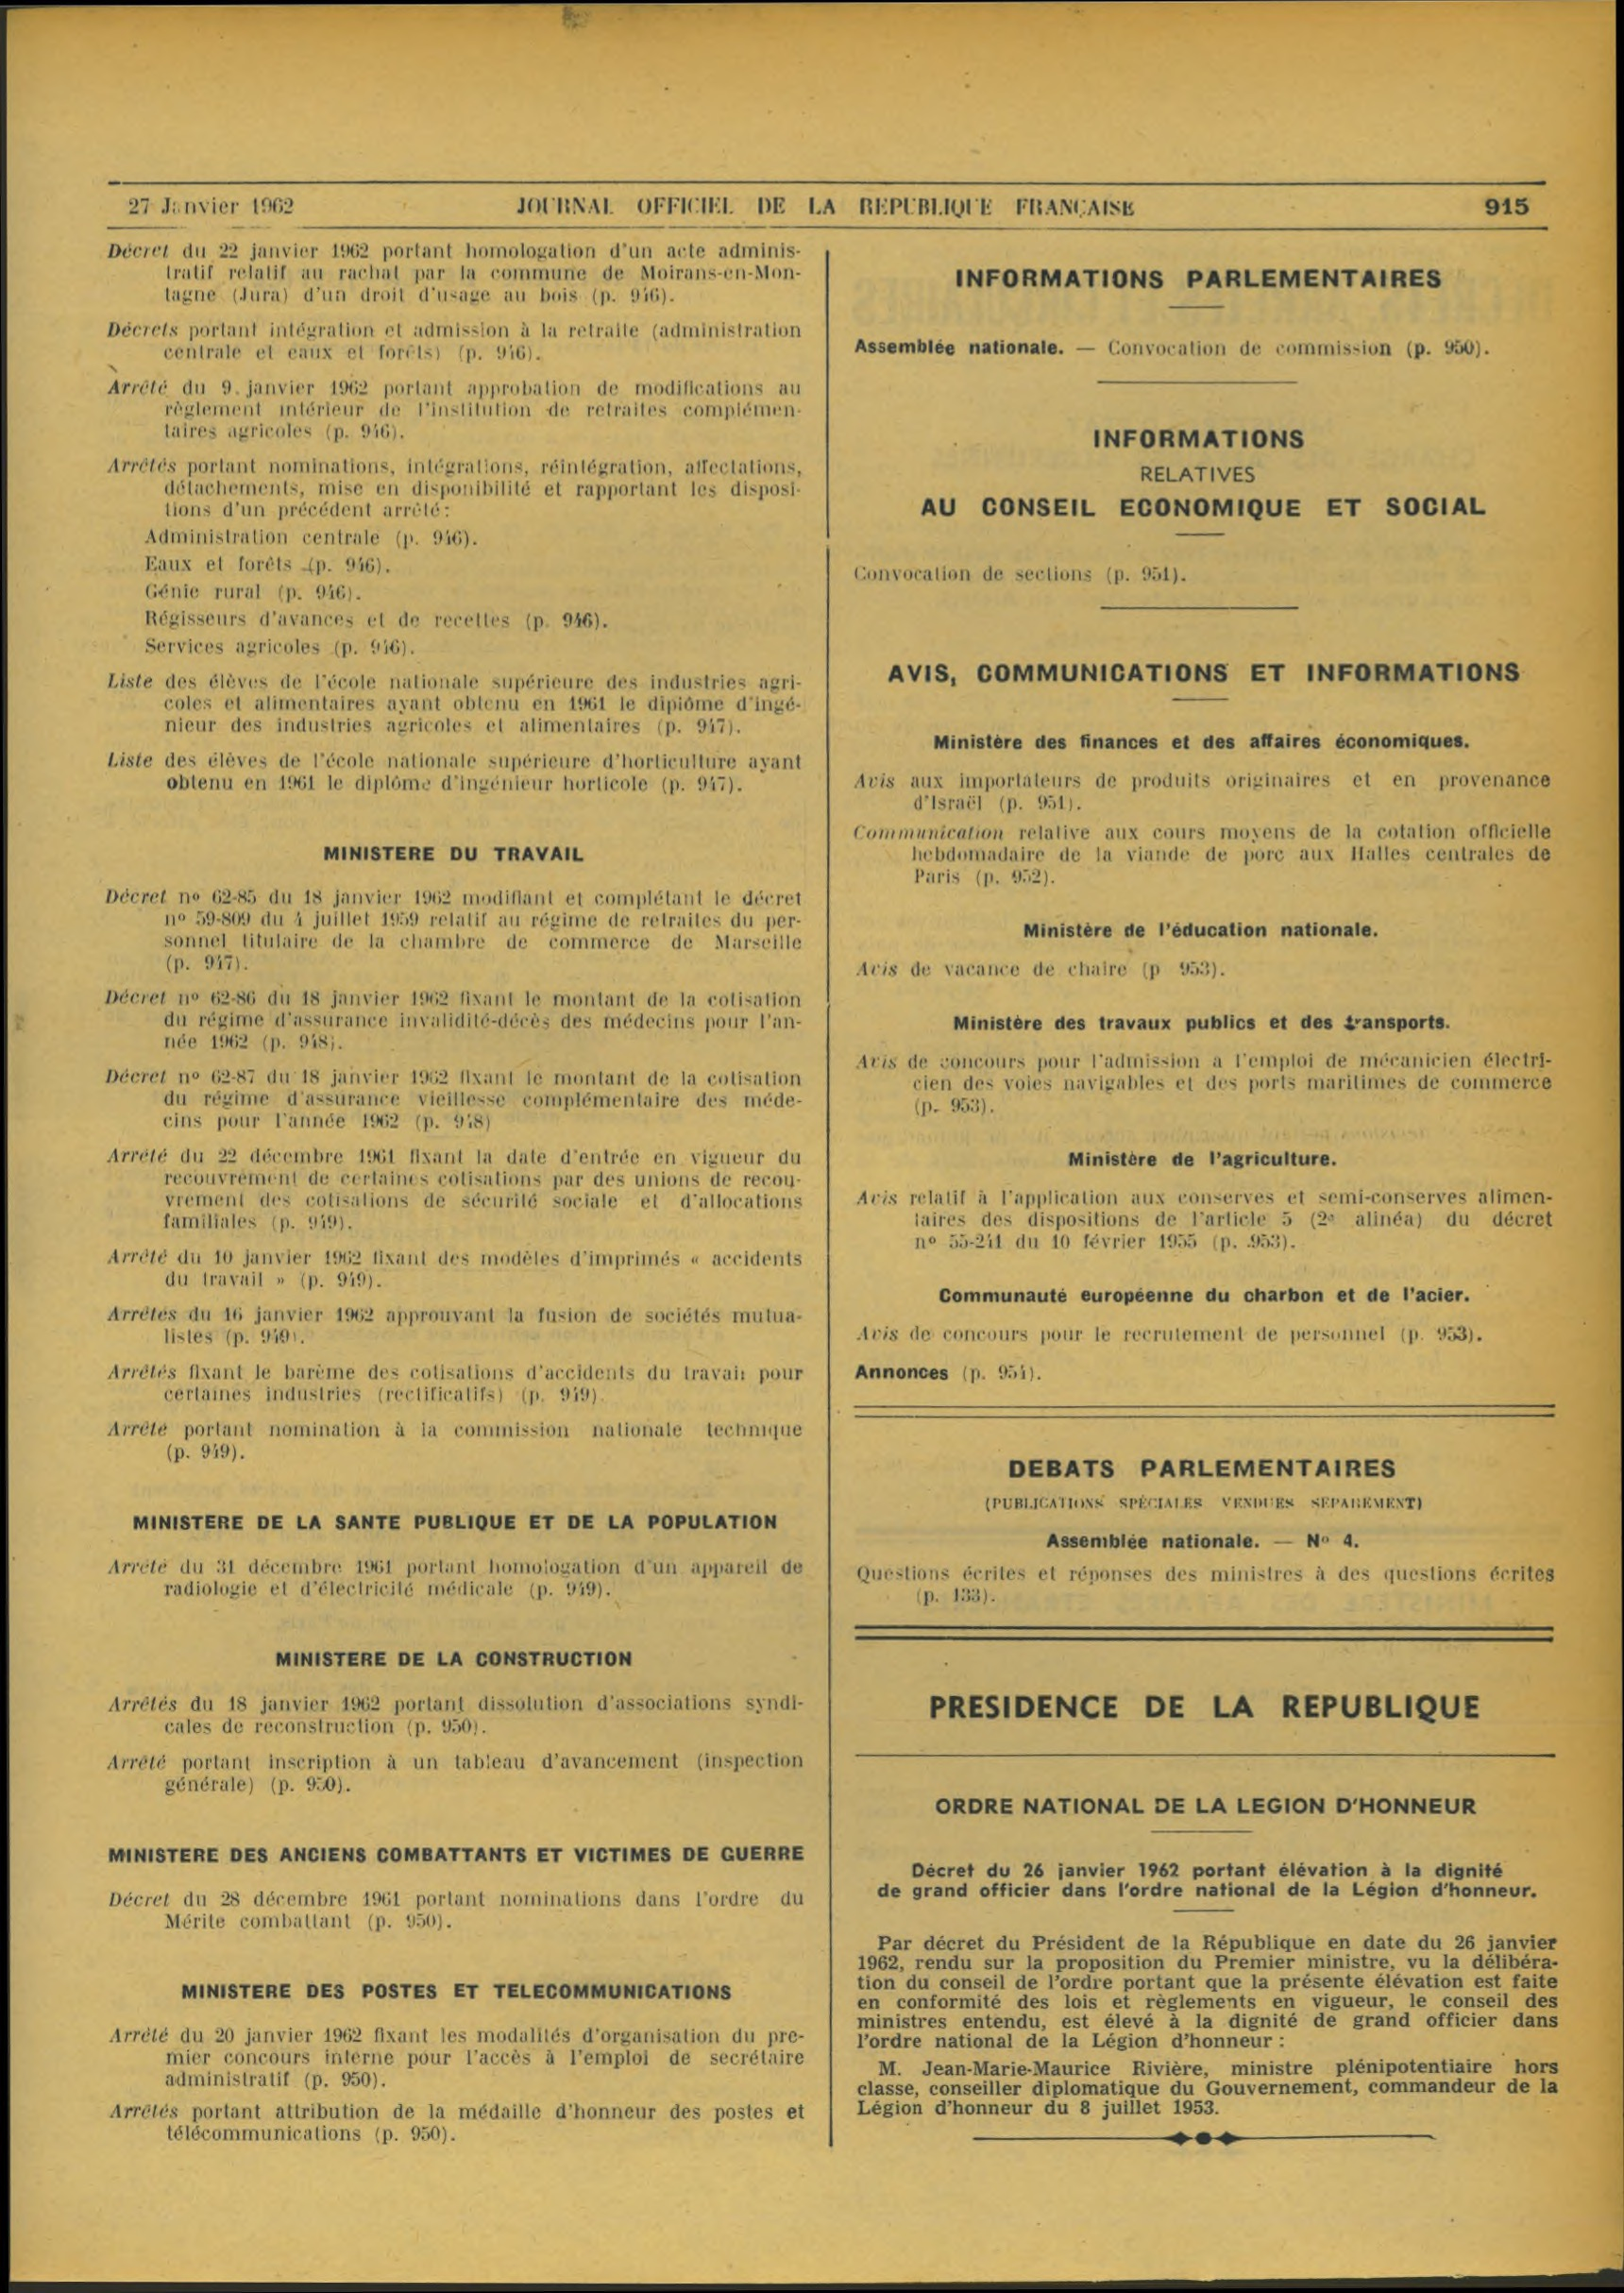MainZone-Date: (114, 191, 302, 224)
MainZone-Head: (905, 419, 1499, 525), (916, 1682, 1492, 1731), (871, 653, 1533, 690), (929, 1787, 1483, 1828), (97, 1838, 809, 1870), (122, 1503, 791, 1537), (168, 1973, 742, 2009), (949, 259, 1447, 297), (922, 726, 1478, 757), (925, 1284, 1479, 1313), (942, 1007, 1457, 1036), (973, 1487, 1434, 1516), (990, 1450, 1409, 1481), (267, 1641, 640, 1673), (1010, 915, 1383, 946), (1036, 1526, 1372, 1555), (318, 835, 593, 868), (1061, 1145, 1345, 1173)
MainZone-P: (97, 450, 806, 663), (849, 1928, 1564, 2053), (96, 1139, 811, 1237), (94, 883, 809, 977), (97, 234, 807, 312), (95, 981, 809, 1058), (845, 1047, 1559, 1123), (94, 1062, 807, 1137), (840, 819, 1562, 893), (97, 666, 809, 741), (849, 1180, 1563, 1254), (98, 2020, 809, 2095), (98, 374, 808, 446), (850, 2055, 1566, 2125), (96, 1415, 808, 1471), (96, 745, 807, 802), (94, 1240, 809, 1296), (98, 2097, 813, 2151), (97, 1746, 809, 1800), (844, 1562, 1563, 1615), (95, 1884, 812, 1937), (96, 1299, 810, 1352), (99, 1690, 811, 1742), (98, 314, 808, 367), (99, 1553, 805, 1605), (863, 1854, 1549, 1908), (92, 1359, 811, 1410), (847, 765, 1563, 816), (848, 333, 1499, 366), (849, 1316, 1495, 1350), (850, 951, 1237, 982), (837, 560, 1193, 593), (850, 1359, 1045, 1387)
StampZone: (509, 185, 1145, 226)
TitlePageZone: (1476, 192, 1538, 223)
